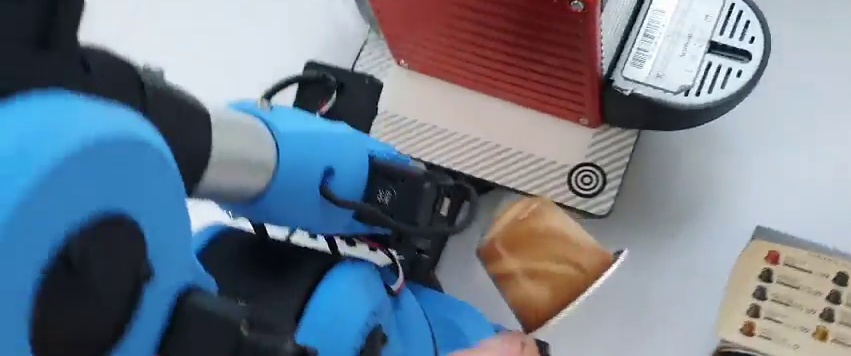capsule_12: (475, 193, 631, 340)
